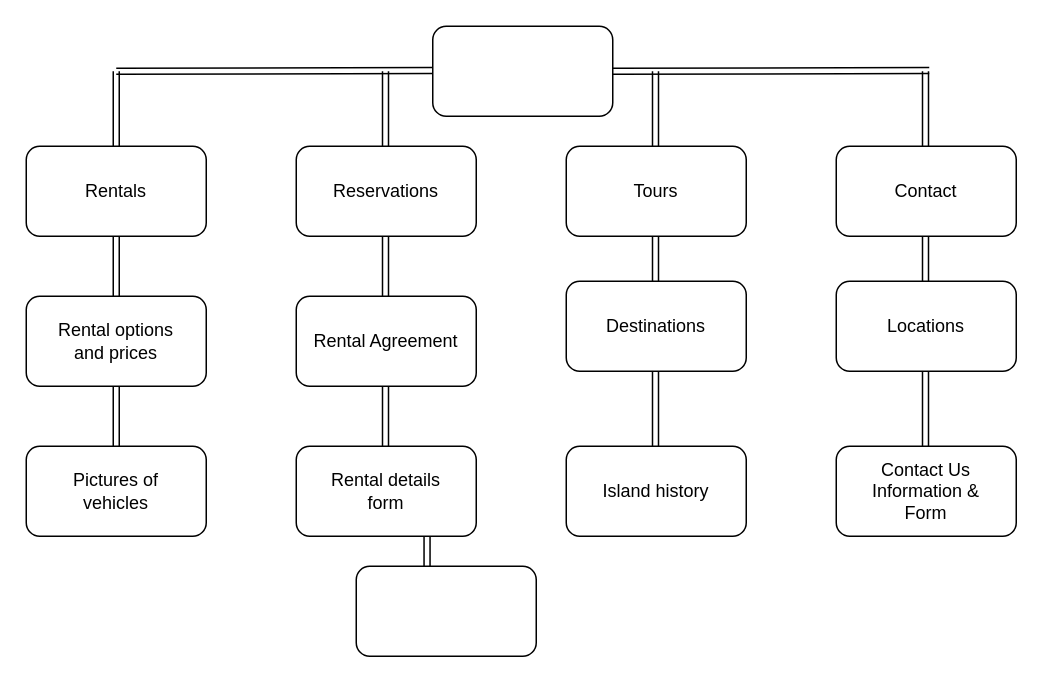
This 1043x683 diagram has some shape labels left out. The shapes that lost their labels are listed below. From the top down, each one's centre as x and y in pixels, then its label:
At (x=522, y=70): "Home".
At (x=445, y=610): "Confirmation & Deposit Information".
